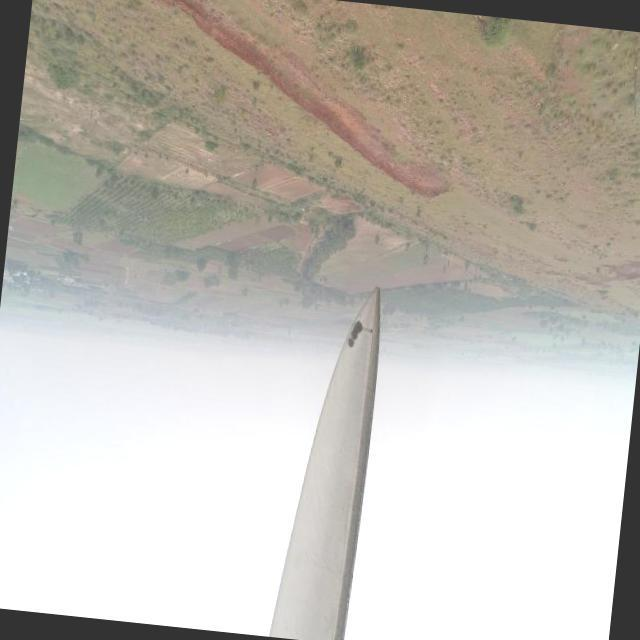Oil LEAKAGE: (345, 319, 361, 346)
Pin Hole: (365, 324, 374, 341)
